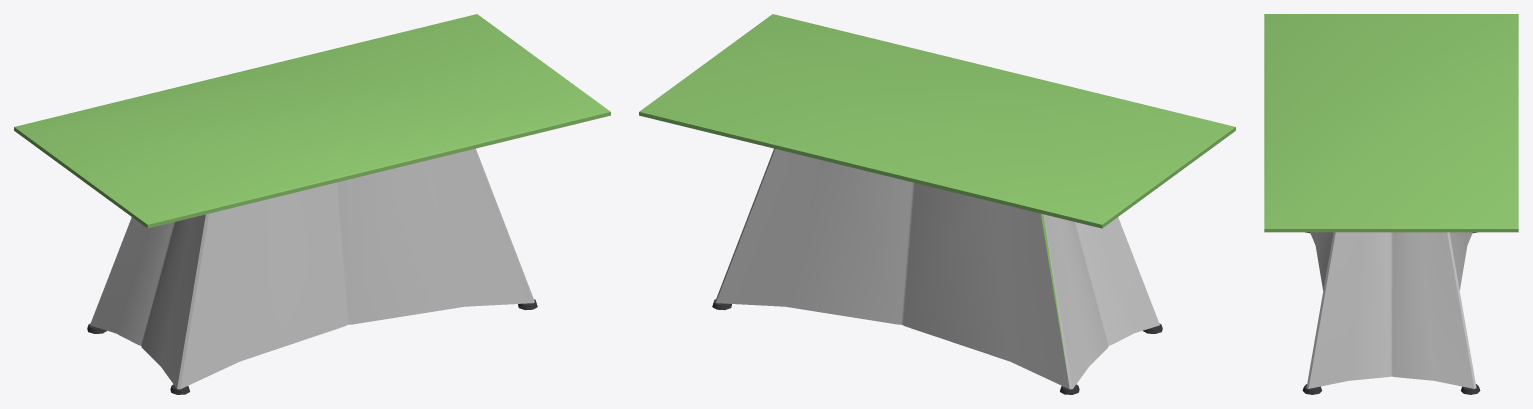
3 views of the same model, side by side, from view 1: azimuth 30°, elevation 25°; view 2: azimuth 150°, elevation 25°; view 3: azimuth 270°, elevation 25° (orthographic). The views are drawn at different scales.
Visible parts, largest first — view 1: TT4121; view 2: TT4121; view 3: TT4121.
Boxes of the visible parts, bbox=[...] form: TT4121: bbox=[14, 14, 610, 394]; TT4121: bbox=[639, 14, 1235, 394]; TT4121: bbox=[1264, 14, 1518, 394].
Size of the model in its own units: 180 by 90 by 74.
